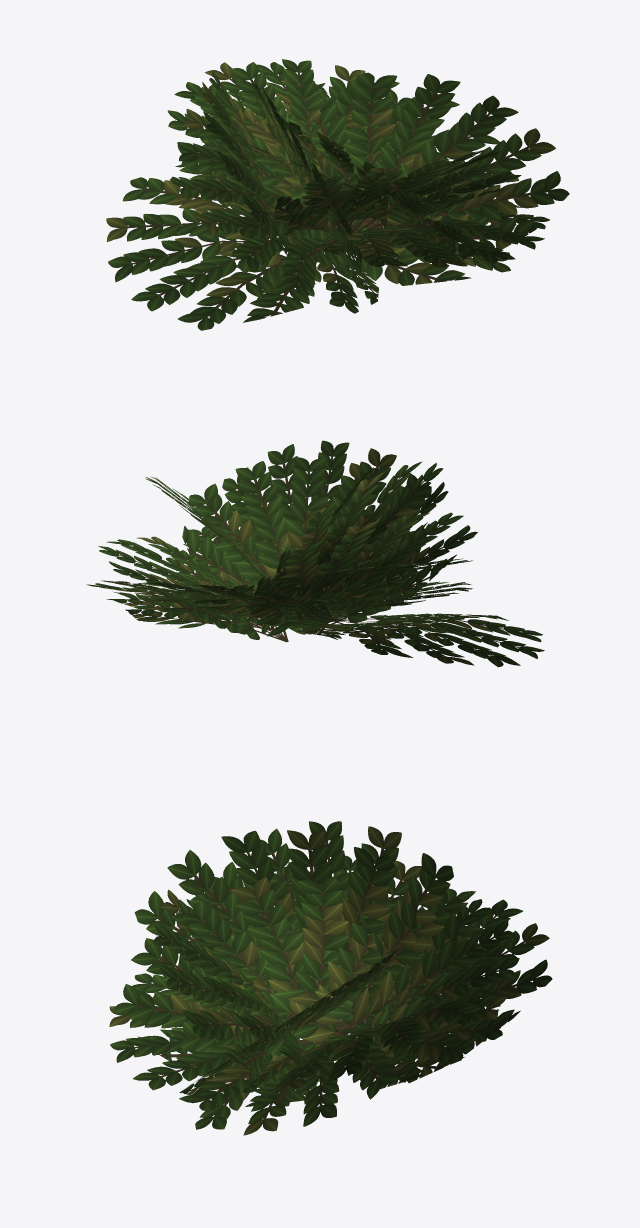
The model's file is ENV_Bush_01.fbx.
3 views of the same model, one above another, from view 1: azimuth 30°, elevation 25°; view 2: azimuth 150°, elevation 25°; view 3: azimuth 270°, elevation 25° (orthographic). The views are drawn at different scales.
Visible parts, largest first — view 1: ENV_Bush_01_LOD0; view 2: ENV_Bush_01_LOD0; view 3: ENV_Bush_01_LOD0.
Boxes of the visible parts, x1,y1,x2,y2 form: ENV_Bush_01_LOD0: (106, 59, 569, 330); ENV_Bush_01_LOD0: (86, 440, 544, 667); ENV_Bush_01_LOD0: (109, 821, 552, 1135).
Size of what is drawn, in the model's own units: 2.97 by 1.34 by 2.6.
